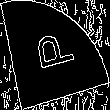P_W: (31, 31, 79, 79)
